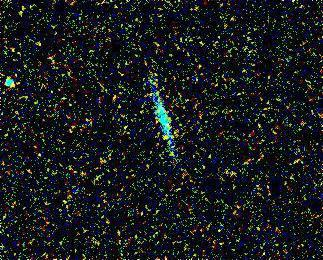star: (157, 122, 187, 152)
